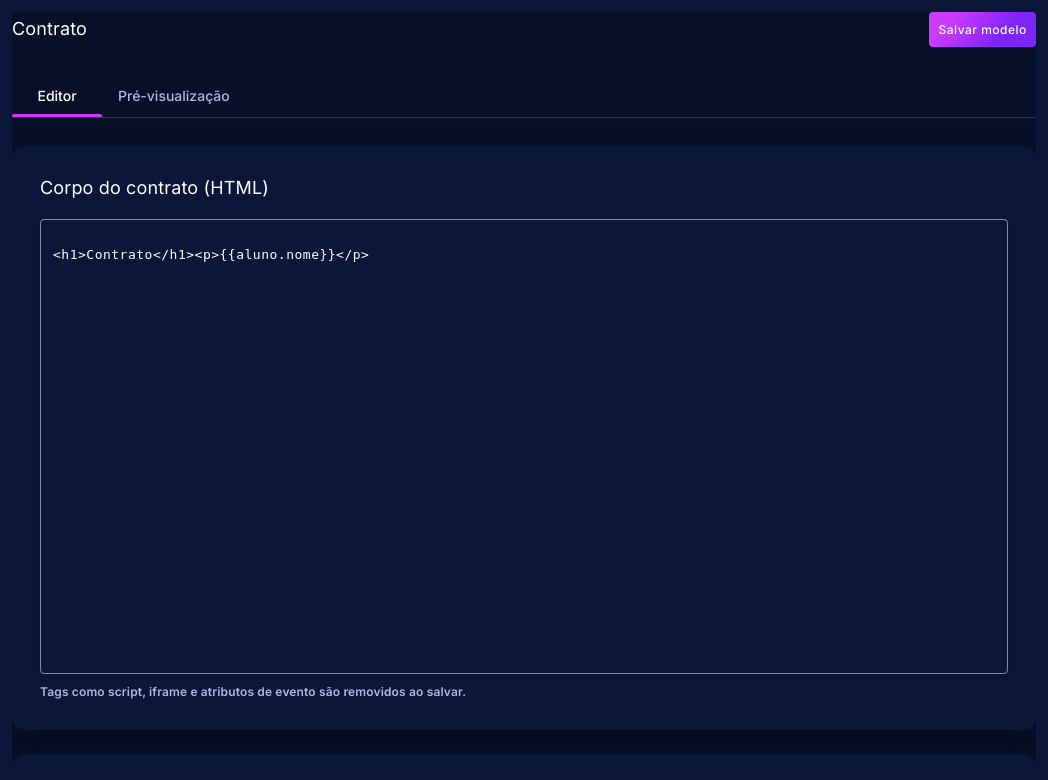
Test: ContractTemplatePage › reports what the API refused
Check: the text box named "corpo do contrato em html" holds "<h1>Contrato</h1><p>{{aluno.nome}}</p>", box [53,245,995,665]
Step 1. Click the button "Salvar modelo" → coordinates (983, 30), box [929,12,1036,47]
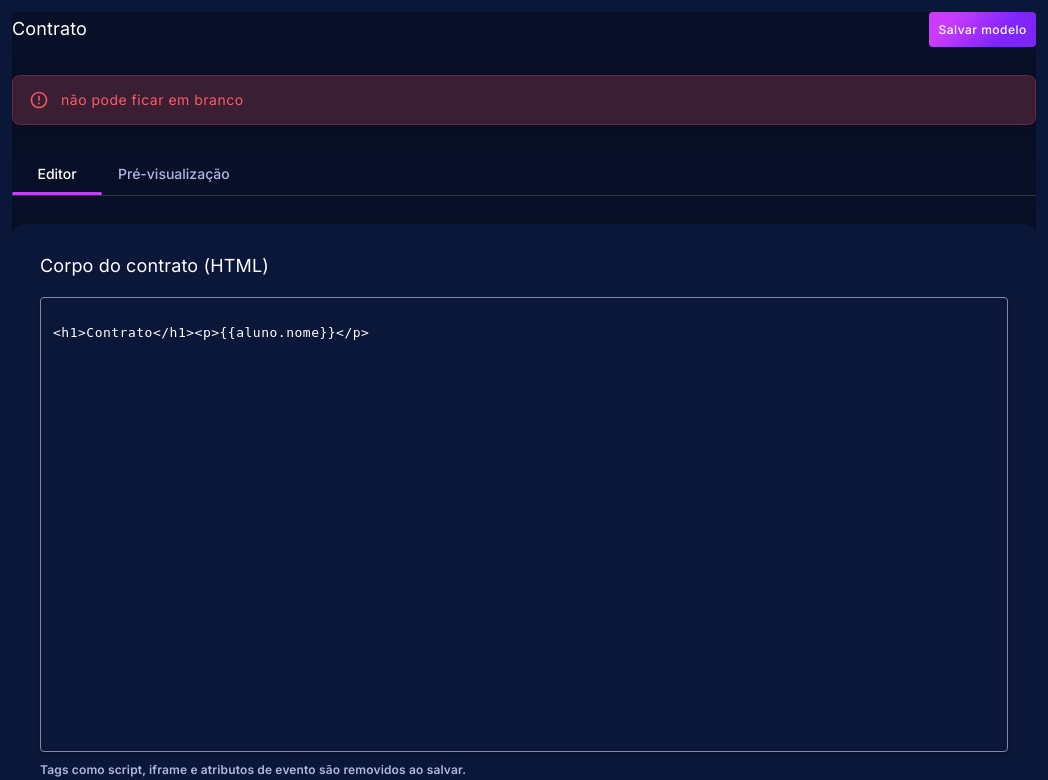
Check: the text "não pode ficar em branco" is shown, box [61,91,244,108]
